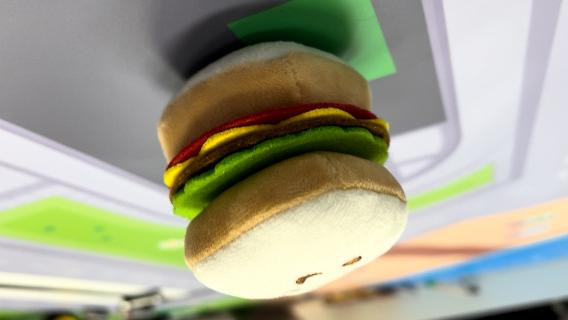sandwich: (154, 38, 412, 300)
